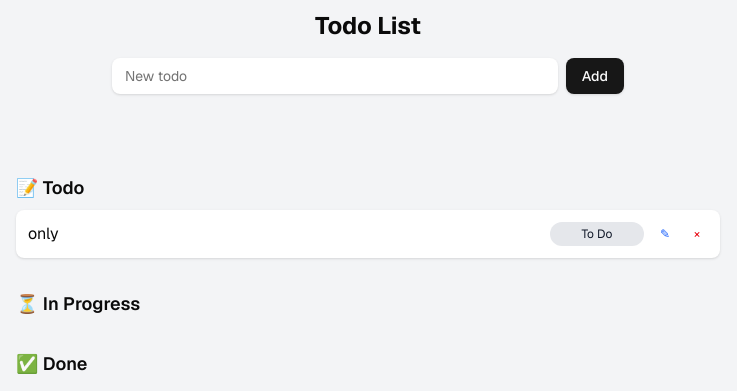
Test: Home page data flow › empty state reappears when last todo is deleted (AC 5)
Expected: the text "only" is shown, [28, 222, 58, 246]
Click the button named "Delete todo" at (697, 234), box [686, 222, 708, 246]
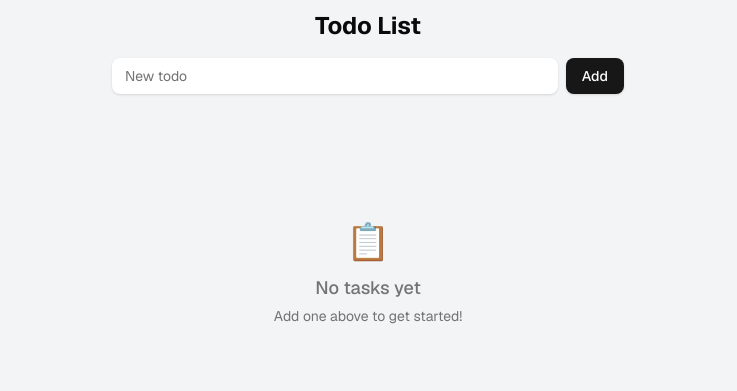
Now the element with test id "empty-state" is shown, box [274, 218, 462, 325]
Now the text "No tasks yet" is shown, box [315, 274, 421, 302]
